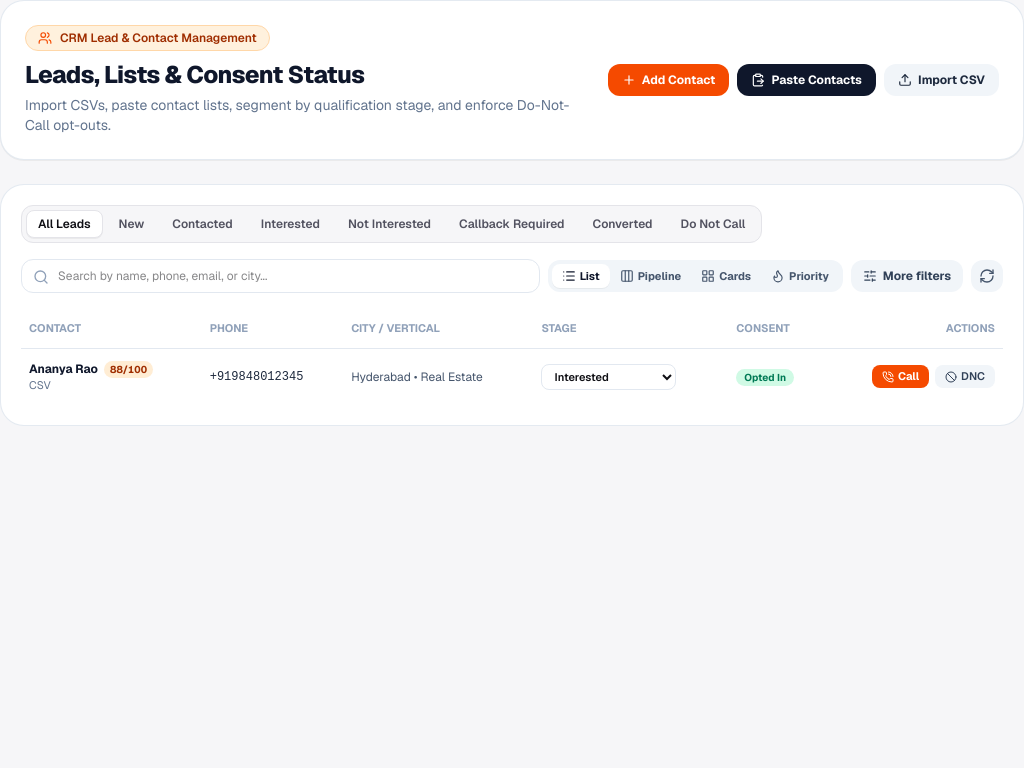
Test: Sprint D End-to-End Parity (RED -> GREEN) › displays lead_score + unified customer timeline in LeadManagementPanel and QA extraction in CallIntelligencePanel
The width and height of the screenshot is (1024, 768).
Later steps or results of the test are not shown.
Check: the text "88/100" is shown, box [104, 361, 153, 378]
Click the text "Ananya Rao" at (64, 369), box [29, 361, 98, 377]
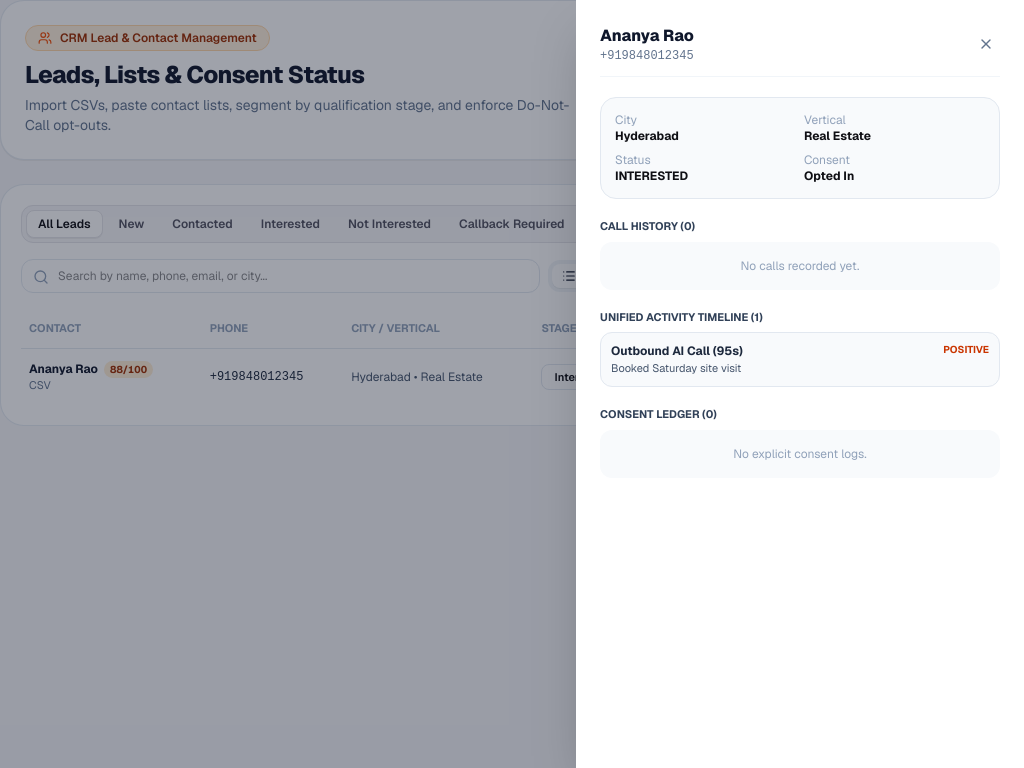
Check: the text "Booked Saturday site visit" is shown, box [611, 361, 741, 375]
